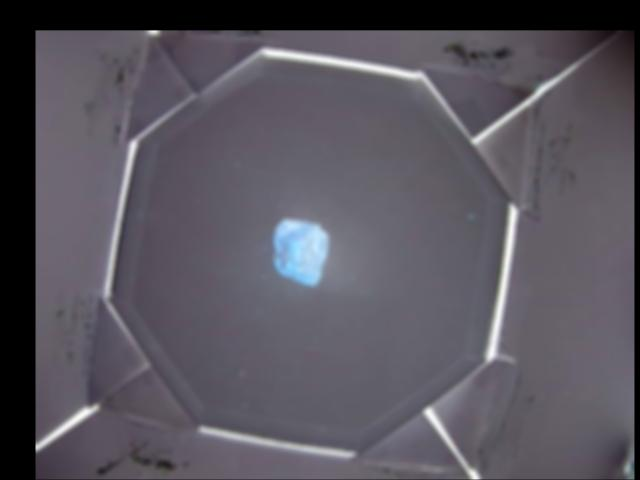Brisk: (274, 219, 325, 285)
